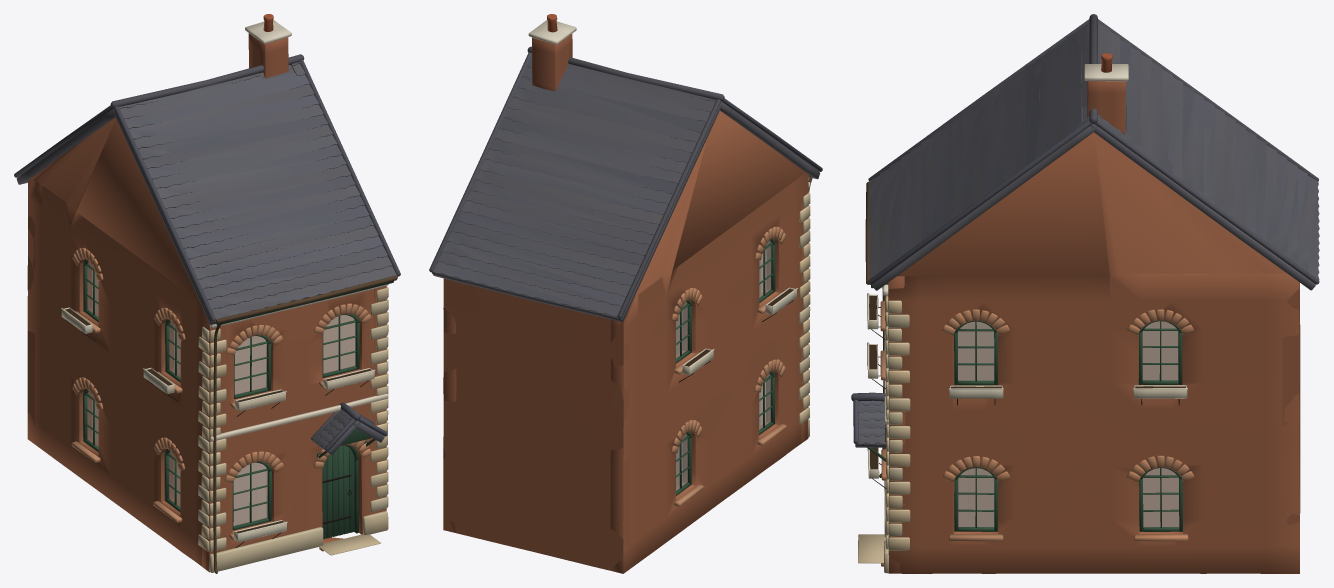
Rendered from GateStreet_BehindOuter6.glb.
3 renders of one model, left to right at view 1: azimuth 30°, elevation 25°; view 2: azimuth 150°, elevation 25°; view 3: azimuth 270°, elevation 25°, orthographic. The views are drawn at different scales.
Visible parts, largest first — view 1: Sammel Ziegel, Sammel Stein, Sammel Lack, Glas, Sammel Putz innen, Sammel Putz, Sammel Metall; view 2: Sammel Ziegel, Sammel Stein, Sammel Lack, Glas, Sammel Putz, Sammel Putz innen; view 3: Sammel Ziegel, Sammel Stein, Sammel Putz innen, Glas, Sammel Lack, Sammel Putz, Sammel Metall.
Boxes of the visible parts, x1=… form: Sammel Ziegel: x1=27, y1=33, x2=386, y2=572; Sammel Stein: x1=14, y1=54, x2=400, y2=572; Sammel Lack: x1=61, y1=259, x2=393, y2=542; Glas: x1=87, y1=262, x2=355, y2=525; Sammel Putz innen: x1=92, y1=270, x2=354, y2=525; Sammel Putz: x1=65, y1=14, x2=388, y2=533; Sammel Metall: x1=65, y1=275, x2=397, y2=573; Sammel Ziegel: x1=443, y1=34, x2=808, y2=573; Sammel Stein: x1=429, y1=46, x2=822, y2=437; Sammel Lack: x1=676, y1=175, x2=810, y2=495; Glas: x1=676, y1=241, x2=770, y2=490; Sammel Putz: x1=528, y1=14, x2=810, y2=366; Sammel Putz innen: x1=676, y1=249, x2=766, y2=487; Sammel Ziegel: x1=880, y1=81, x2=1300, y2=573; Sammel Stein: x1=851, y1=14, x2=1319, y2=573; Sammel Putz innen: x1=958, y1=321, x2=1179, y2=527; Glas: x1=958, y1=321, x2=1178, y2=527; Sammel Lack: x1=867, y1=283, x2=1187, y2=531; Sammel Putz: x1=869, y1=53, x2=1185, y2=469; Sammel Metall: x1=865, y1=182, x2=1179, y2=488.
Size of the model in its own units: 5.34 by 10.98 by 9.12.
